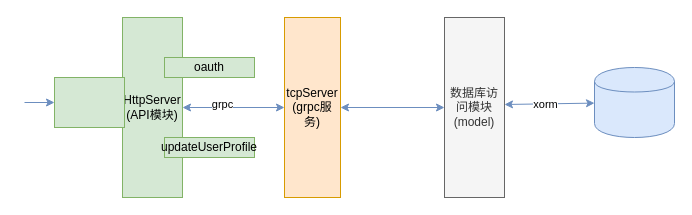
The diagram is 692 pixels wide and 215 high, and some of its shapes have lost their labels. Here are the shapes that lost their labels. From the top down, the centre of each, then its label:
At pixel 89 102: "middleware".
At pixel 634 102: "mysql".
